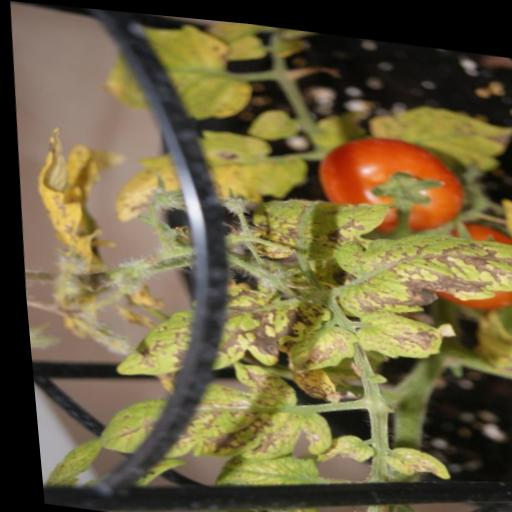Bacterial Spot: (82, 346, 343, 478), (89, 268, 302, 403), (306, 207, 512, 332), (237, 181, 389, 261), (340, 301, 452, 360)
